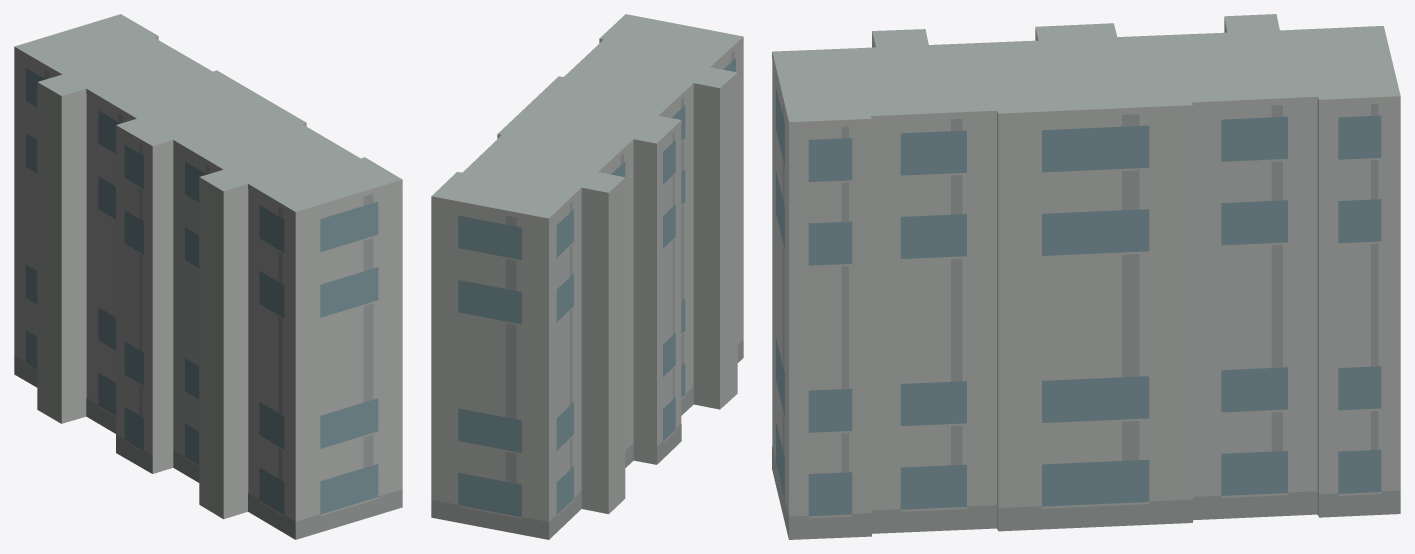
File: survey-upis-32699919.glb
3 views of the same model, side by side, from view 1: azimuth 30°, elevation 25°; view 2: azimuth 150°, elevation 25°; view 3: azimuth 270°, elevation 25° (orthographic). The views are drawn at different scales.
Visible parts, largest first — view 1: survey-upis-32699919.tmp; view 2: survey-upis-32699919.tmp; view 3: survey-upis-32699919.tmp.
Part boxes in pixels (x1=…): survey-upis-32699919.tmp: x1=14, y1=14, x2=402, y2=539; survey-upis-32699919.tmp: x1=431, y1=14, x2=743, y2=539; survey-upis-32699919.tmp: x1=772, y1=14, x2=1400, y2=539.
Size of the model in its own units: 8.48 by 15.25 by 20.81.
